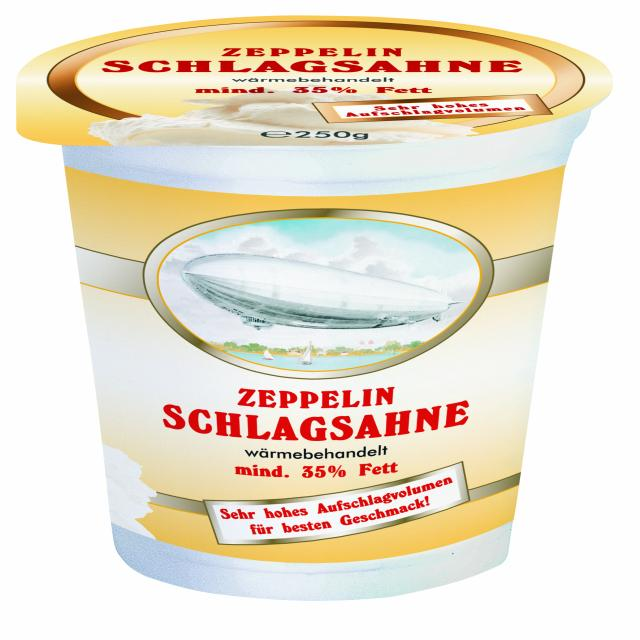Cream: (16, 15, 612, 601)
